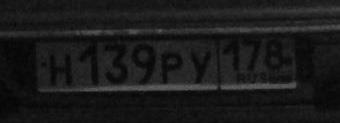license-plateSW: (35, 32, 299, 94)
